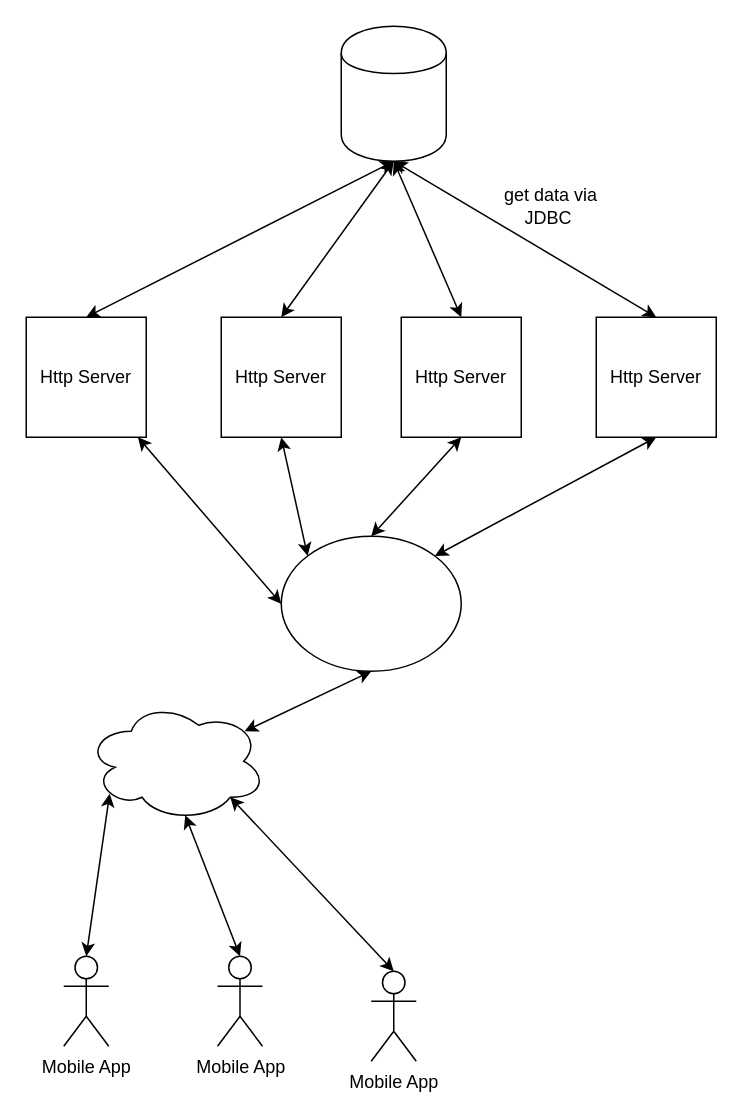
Some shapes in this 743 by 1119 pixel diagram are drawn without their labels. Each missing label, with the box of its shape:
Loading Balance Server: (280, 535, 461, 671)
network: (85, 700, 266, 821)
Relational DB: (340, 25, 446, 161)
